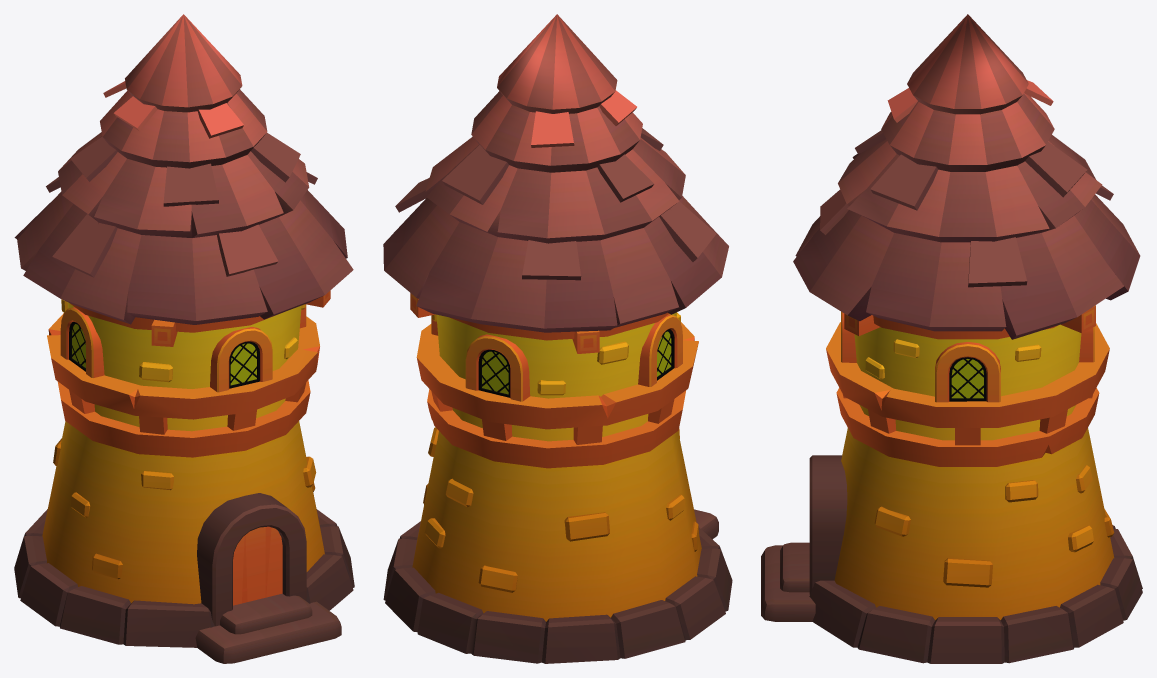
The model's file is magic_tower.glb.
3 renders of one model, left to right at view 1: azimuth 30°, elevation 25°; view 2: azimuth 150°, elevation 25°; view 3: azimuth 270°, elevation 25°, orthographic. The views are drawn at different scales.
Visible parts, largest first — view 1: magic_tower; view 2: magic_tower; view 3: magic_tower.
Boxes of the visible parts, x1,y1,x2,y2 form: magic_tower: [14, 14, 354, 663]; magic_tower: [383, 14, 732, 663]; magic_tower: [761, 14, 1142, 663].
Size of the model in its own units: 2.33 by 4.27 by 2.56.
1 material, 1 textured.
